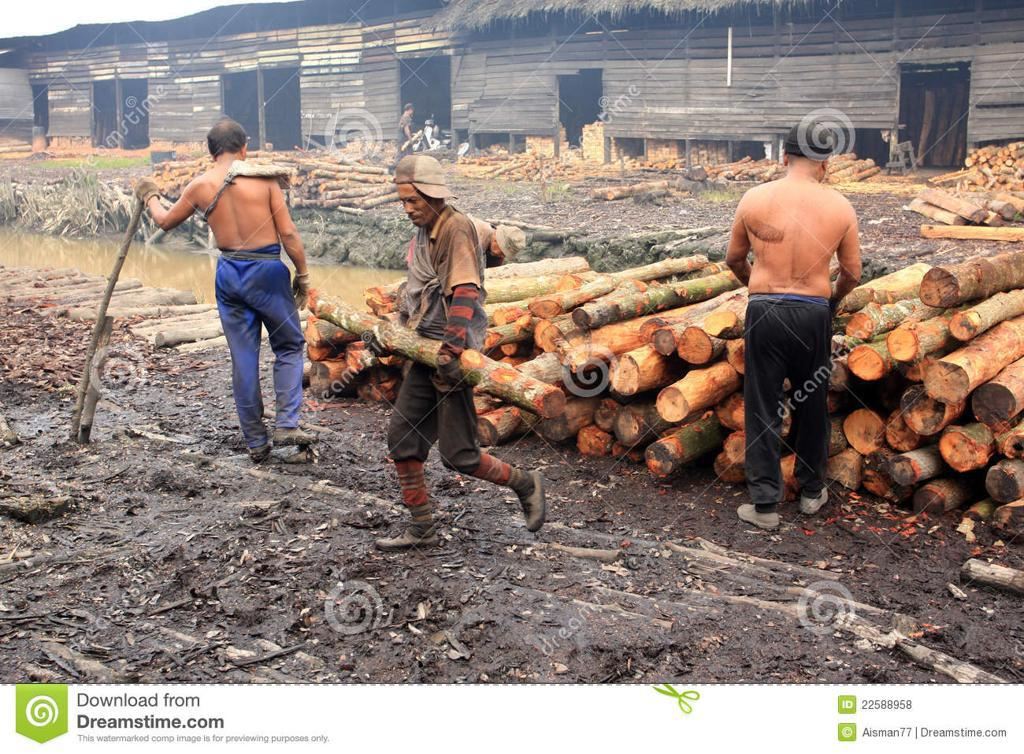face: (398, 183, 437, 228)
